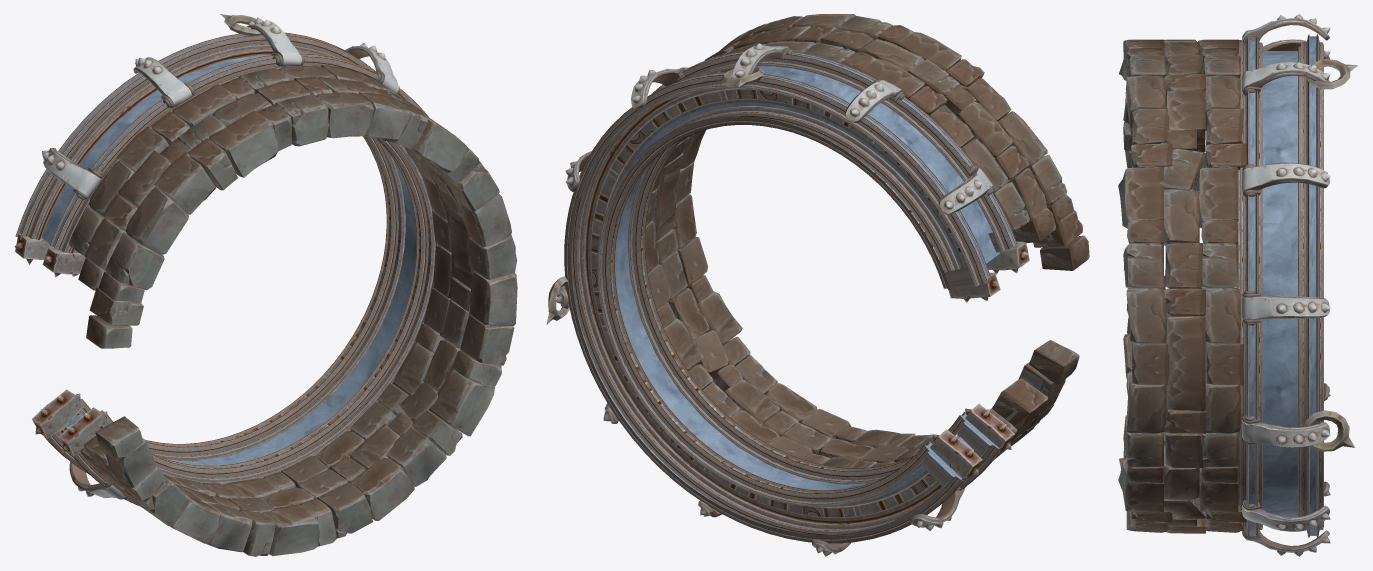
Rendered from Tremor_Chimney_Mid.fbx.
3 views of the same model, side by side, from view 1: azimuth 30°, elevation 25°; view 2: azimuth 150°, elevation 25°; view 3: azimuth 270°, elevation 25° (orthographic).
Parts seen in each view (by area): view 1: Tremor_Chimney_Mid; view 2: Tremor_Chimney_Mid; view 3: Tremor_Chimney_Mid.
Boxes of the visible parts, x1=… form: Tremor_Chimney_Mid: x1=14, y1=14, x2=517, y2=556; Tremor_Chimney_Mid: x1=546, y1=14, x2=1089, y2=556; Tremor_Chimney_Mid: x1=1118, y1=14, x2=1358, y2=556.
Bounding box in the file's own units: 1666 × 1736 × 779.
